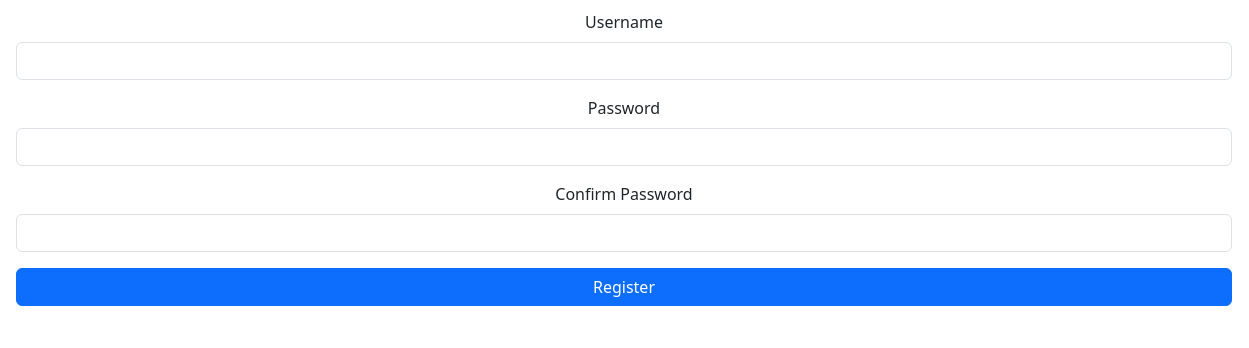
RegisterForm › shows validation error for short username
The image size is (1249, 348).
Type "ab" into the field labelled "Username". click: (624, 61)
box: [16,42,1232,80]
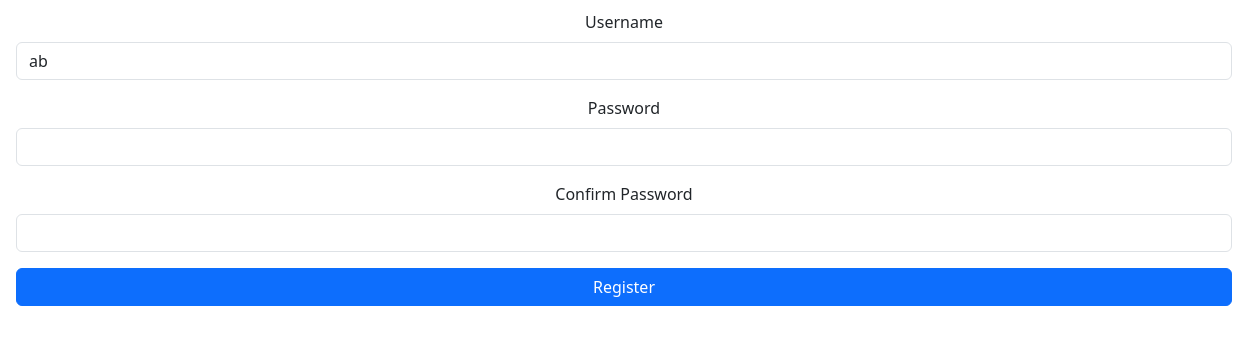
Type "password123" into the password field labelled "Password". click: (624, 147)
box: [16,128,1232,166]
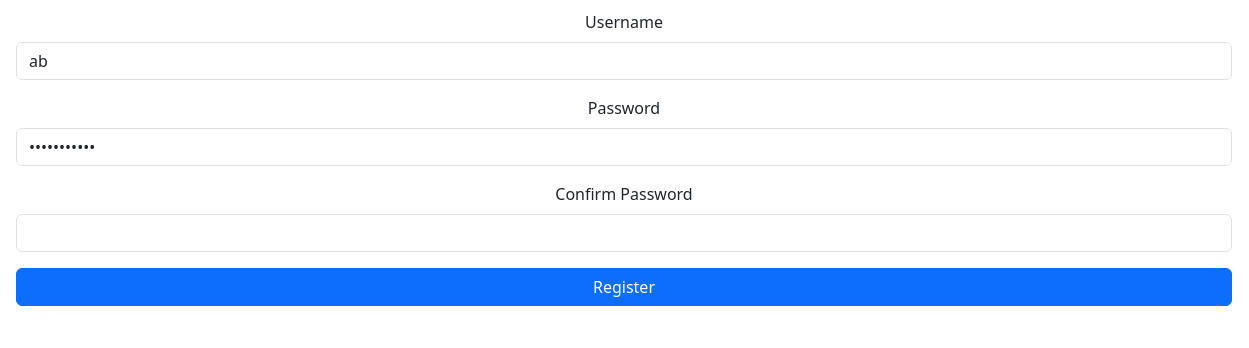
Type "password123" into the password field labelled "Confirm Password". click: (624, 233)
box: [16,214,1232,252]
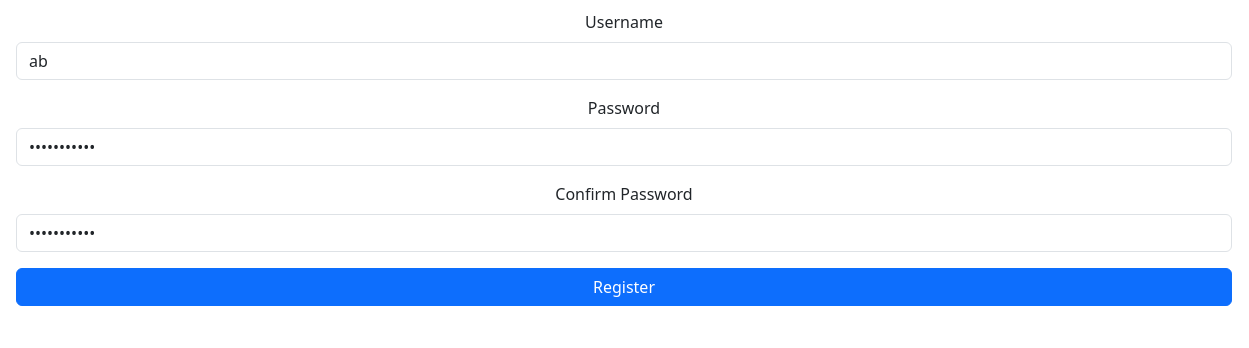
Click the button "Register". click: (624, 287)
box: [16,268,1232,306]
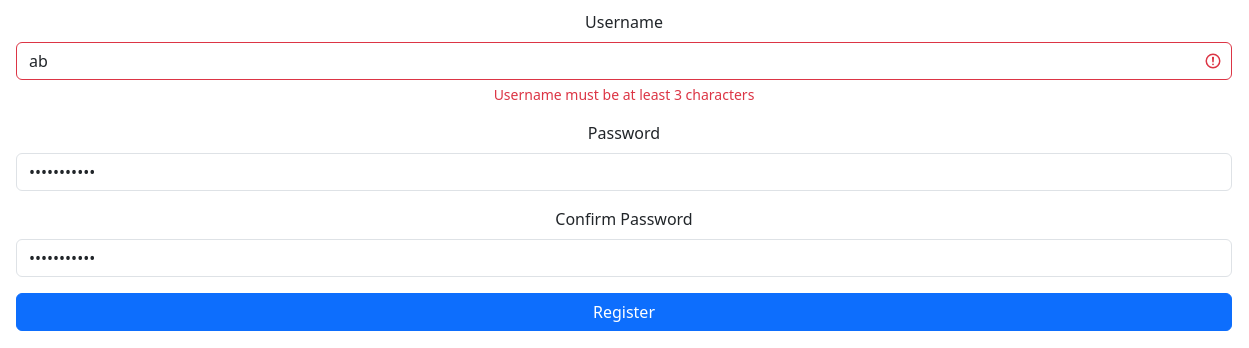
Expected: the text "Username must be at least 3 characters" is shown, [494,85,754,104]
